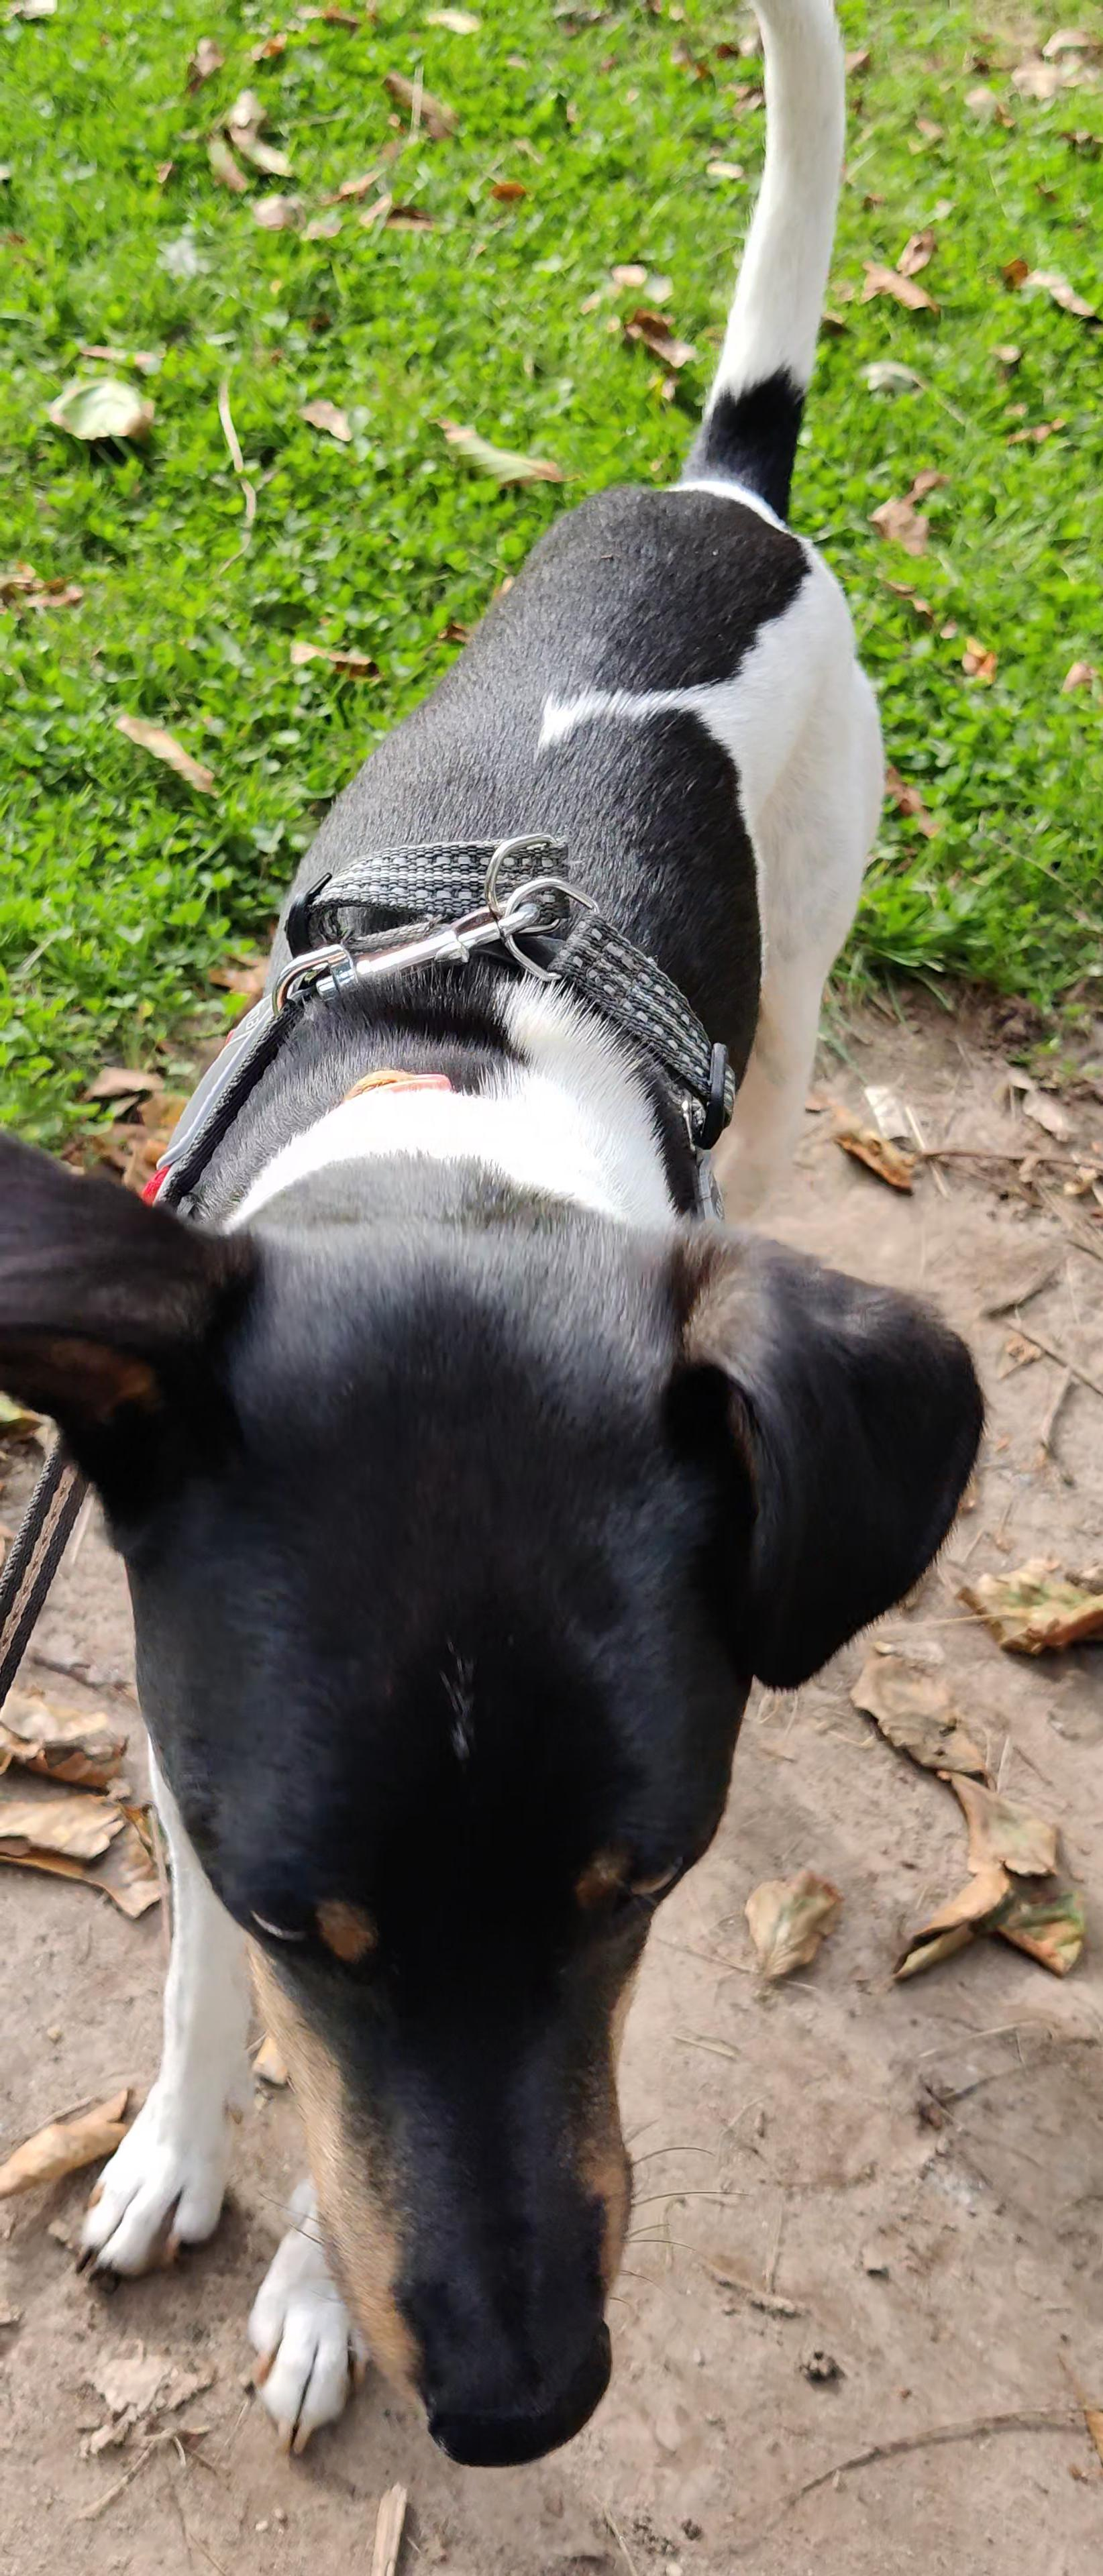Dog: (0, 0, 991, 2489)
